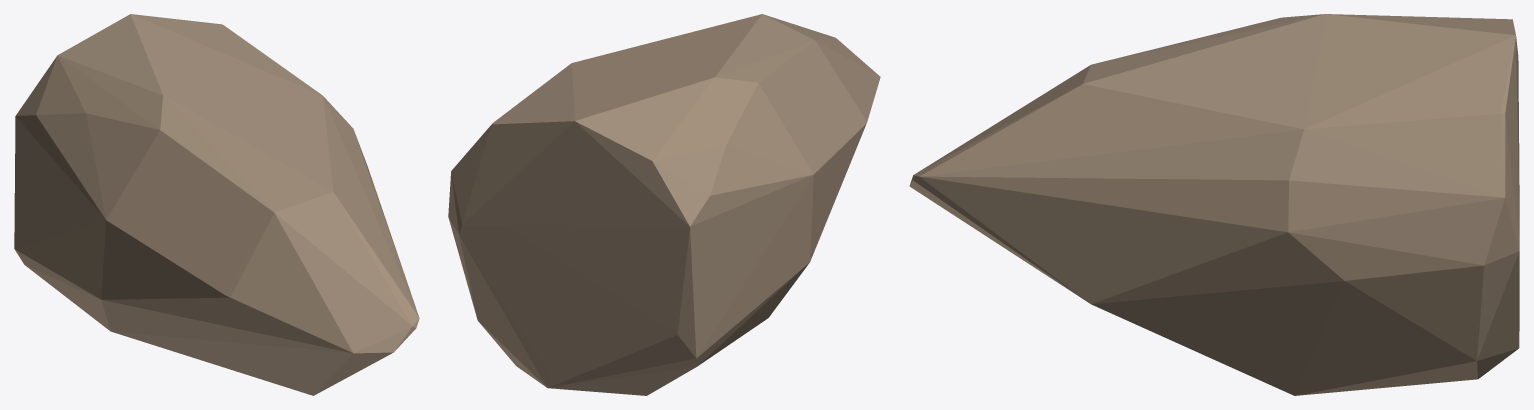
File: paint_container_bottle_yellow_a02.glb
3 renders of one model, left to right at view 1: azimuth 30°, elevation 25°; view 2: azimuth 150°, elevation 25°; view 3: azimuth 270°, elevation 25°, orthographic. The views are drawn at different scales.
Parts seen in each view (by area): view 1: geometry_0; view 2: geometry_0; view 3: geometry_0.
Boxes of the visible parts, x1,y1,x2,y2 form: geometry_0: (14, 14, 419, 395); geometry_0: (448, 14, 880, 395); geometry_0: (909, 14, 1519, 395).
Bounding box in the file's own units: 0.2729 × 0.2718 × 0.48.
